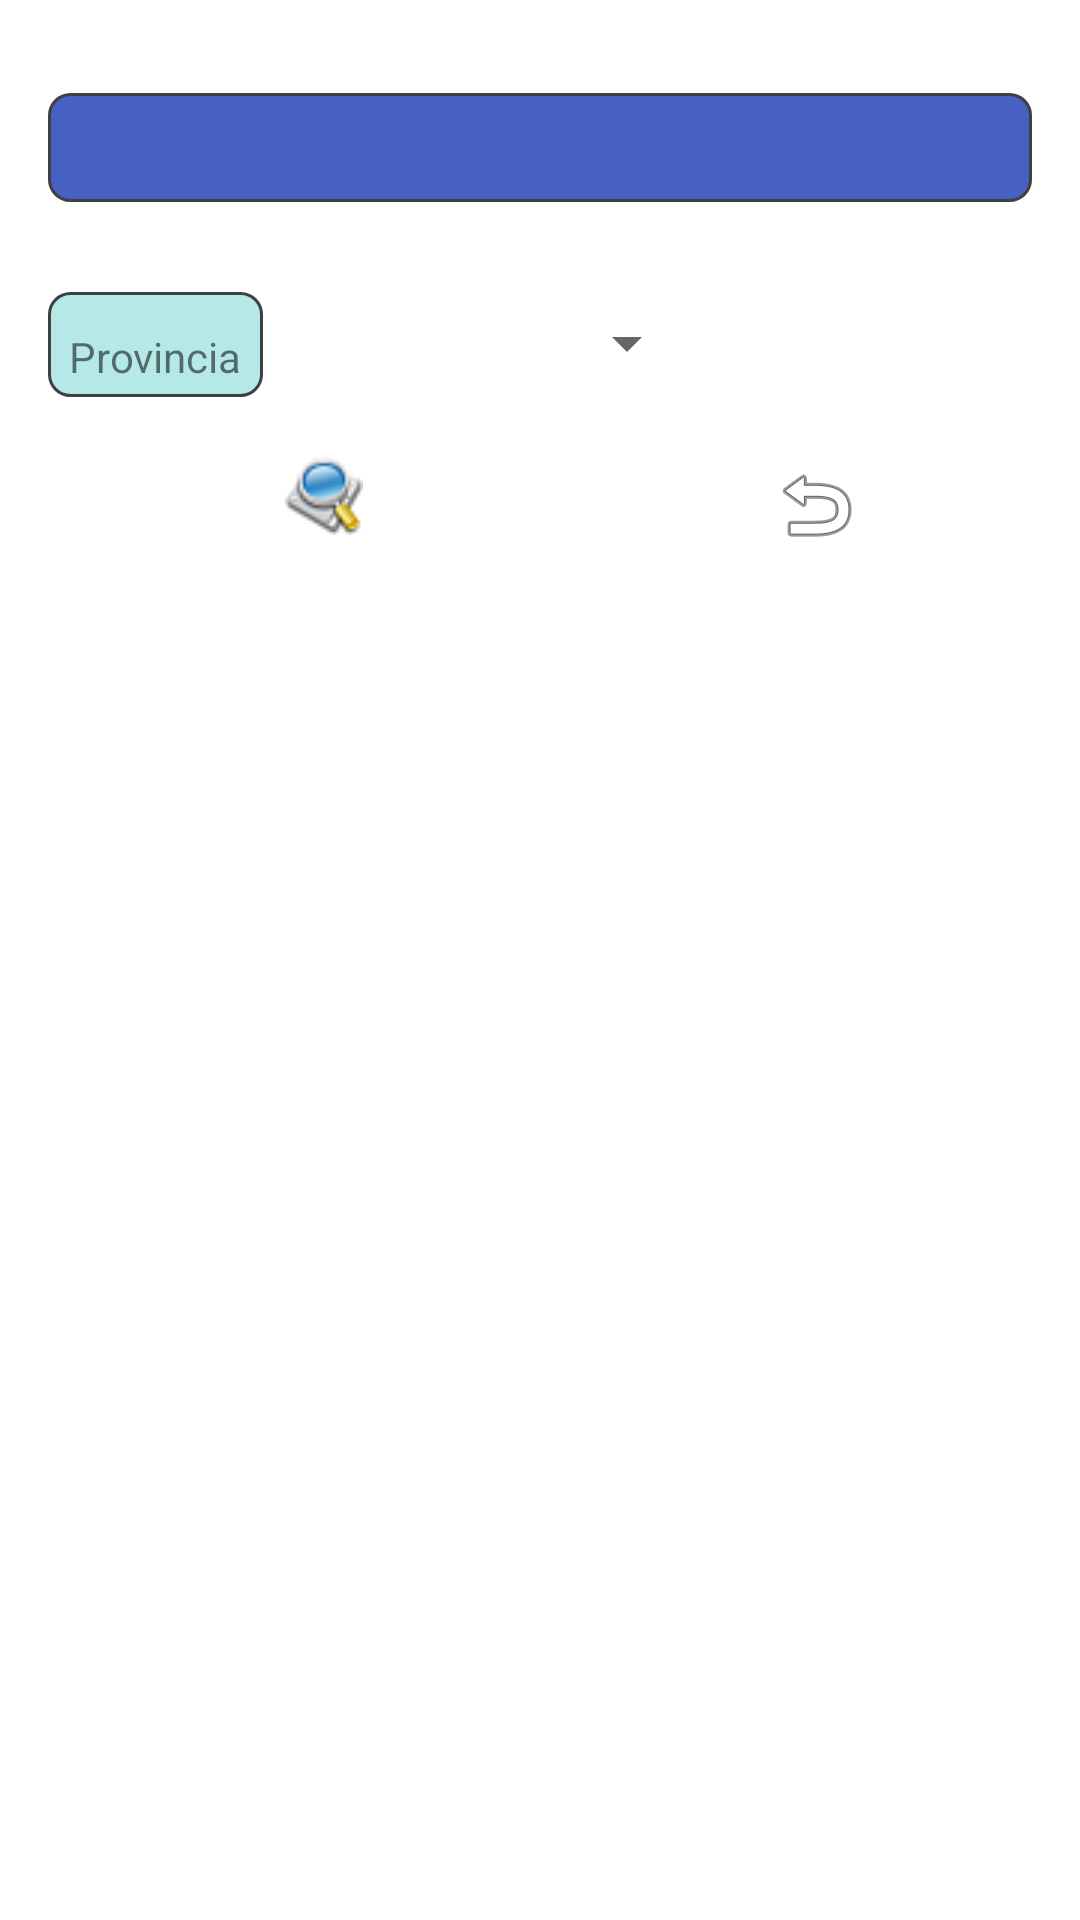

Locate icon controls on the screen. Image size 1080x1920, boxes as box=[x1, y1, x2, y2].
buscar: box=[285, 460, 363, 535]
revert: box=[783, 474, 852, 537]
